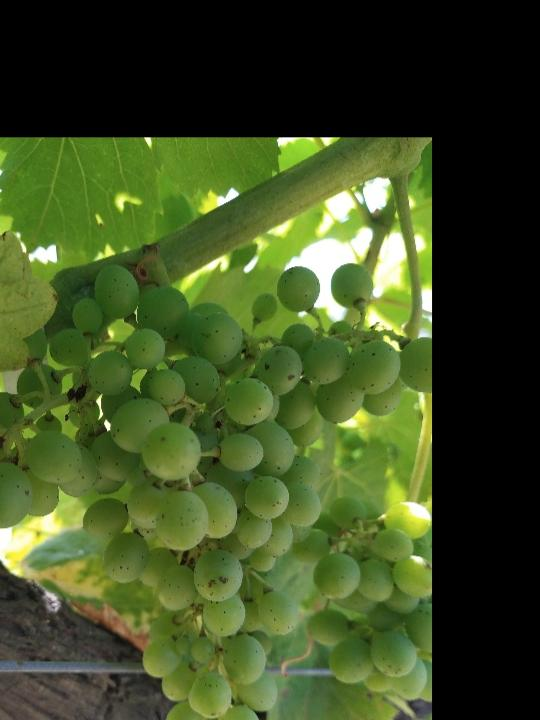grape: (0, 260, 430, 720)
